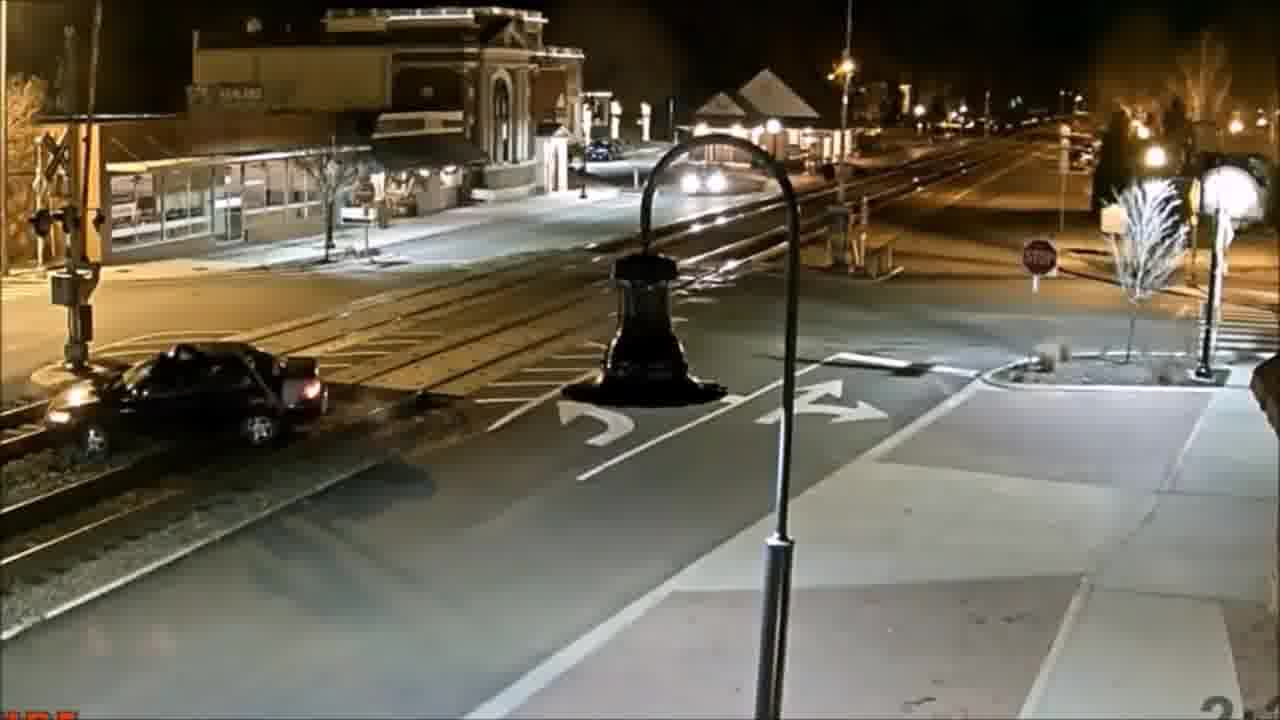crossing railway track: (38, 324, 322, 469)
